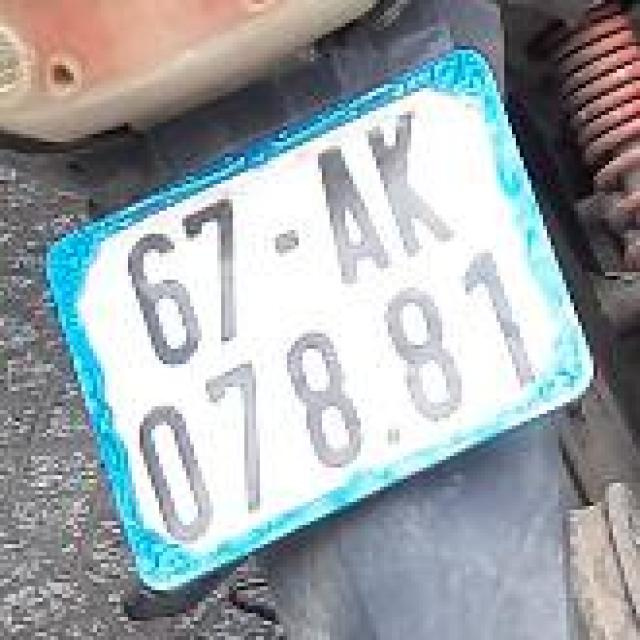0: (119, 391, 226, 562)
1: (442, 237, 560, 411)
6: (118, 221, 218, 387)
7: (191, 354, 298, 531), (172, 188, 272, 372)
8: (274, 314, 394, 493), (373, 274, 488, 442)
A: (300, 133, 403, 303)
K: (353, 102, 477, 276)
